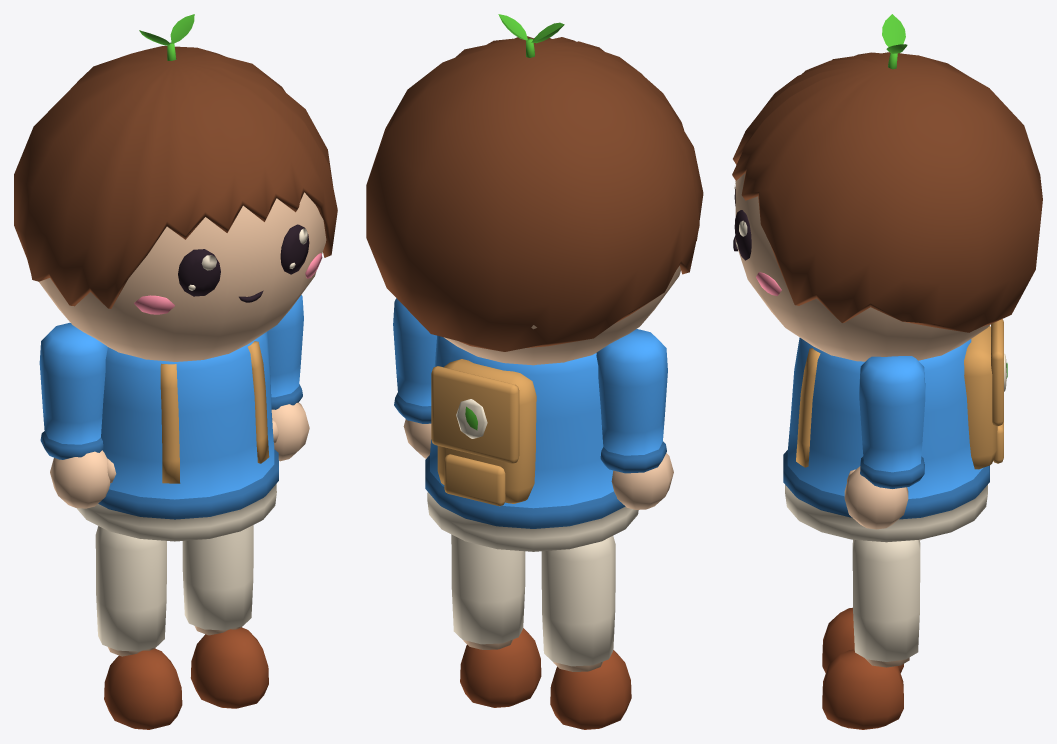
Rendered from hero-man-teen.glb.
3 views of the same model, side by side, from view 1: azimuth 30°, elevation 25°; view 2: azimuth 150°, elevation 25°; view 3: azimuth 270°, elevation 25° (orthographic). The views are drawn at different scales.
Parts seen in each view (by area): view 1: head, body, leg-left, leg-right, arm-left, arm-right, head-leaf; view 2: head, body, leg-left, leg-right, arm-left, arm-right, head-leaf; view 3: head, body, leg-right, arm-right, leg-left, head-leaf.
Part boxes in pixels (x1,y1,x2,y2): head: [14, 46, 337, 361]; body: [76, 332, 278, 541]; leg-left: [95, 526, 182, 729]; leg-right: [182, 525, 268, 708]; arm-left: [39, 322, 116, 508]; arm-right: [267, 295, 309, 461]; head-leaf: [139, 14, 194, 60]; head: [366, 36, 703, 365]; body: [425, 335, 638, 551]; leg-left: [541, 536, 631, 729]; leg-right: [451, 534, 541, 707]; arm-left: [596, 329, 673, 509]; arm-right: [393, 298, 436, 458]; head-leaf: [498, 14, 564, 57]; head: [732, 52, 1042, 361]; body: [783, 319, 1007, 542]; leg-right: [822, 540, 920, 729]; arm-right: [844, 356, 925, 529]; leg-left: [822, 539, 920, 673]; head-leaf: [882, 14, 907, 69].
Size of the model in its own units: 1.11 by 2.53 by 1.07.
